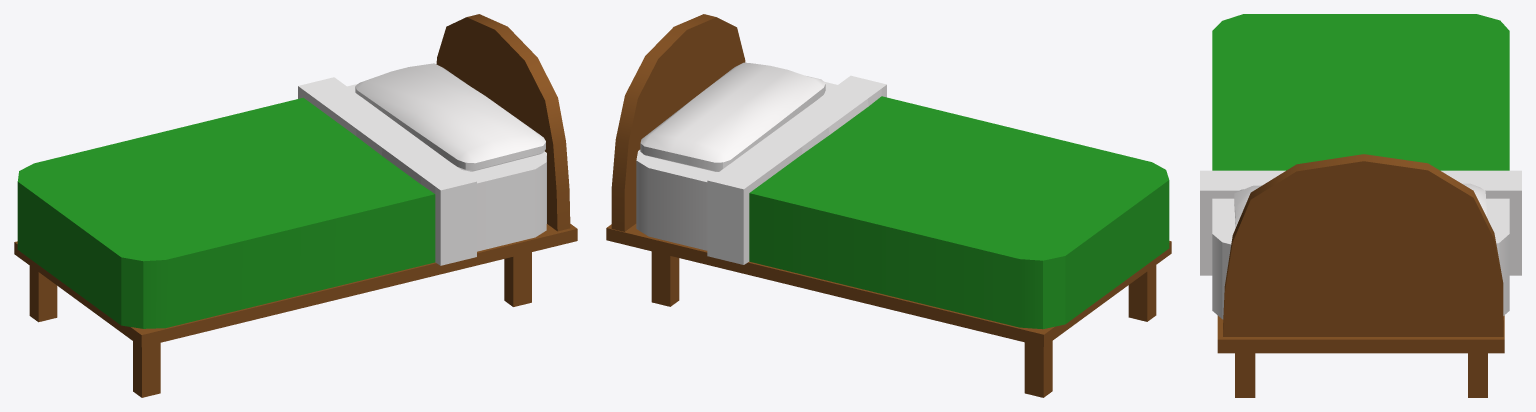
Rendered from camaVerde.FBX.
The picture shows the model from 3 angles, left to right: view 1: azimuth 30°, elevation 25°; view 2: azimuth 150°, elevation 25°; view 3: azimuth 270°, elevation 25°; orthographic projection. The views are drawn at different scales.
Visible parts, largest first — view 1: Box001, Box002, Cylinder001, Box003, Box004, Box007, Box005; view 2: Box001, Box002, Cylinder001, Box003, Box005, Box006, Box004; view 3: Box001, Cylinder001, Box003, Box007, Box006, Box002.
Part boxes in pixels (x1,y1,x2,y2): Box001: [17, 77, 546, 328]; Box002: [355, 63, 545, 171]; Cylinder001: [436, 14, 570, 231]; Box003: [14, 224, 577, 347]; Box004: [133, 341, 160, 397]; Box007: [504, 252, 531, 306]; Box005: [29, 266, 57, 322]; Box001: [636, 75, 1169, 329]; Box002: [640, 62, 825, 171]; Cylinder001: [611, 14, 745, 231]; Box003: [606, 224, 1171, 346]; Box005: [1024, 341, 1052, 397]; Box006: [651, 251, 679, 306]; Box004: [1128, 265, 1156, 321]; Box001: [1200, 14, 1521, 319]; Cylinder001: [1223, 154, 1503, 336]; Box003: [1217, 315, 1504, 353]; Box007: [1235, 353, 1255, 397]; Box006: [1468, 353, 1487, 397]; Box002: [1234, 183, 1486, 227].
Size of the model in its own units: 63.8 by 30.98 by 35.45.
Materials: 4 (3 with a texture image).
